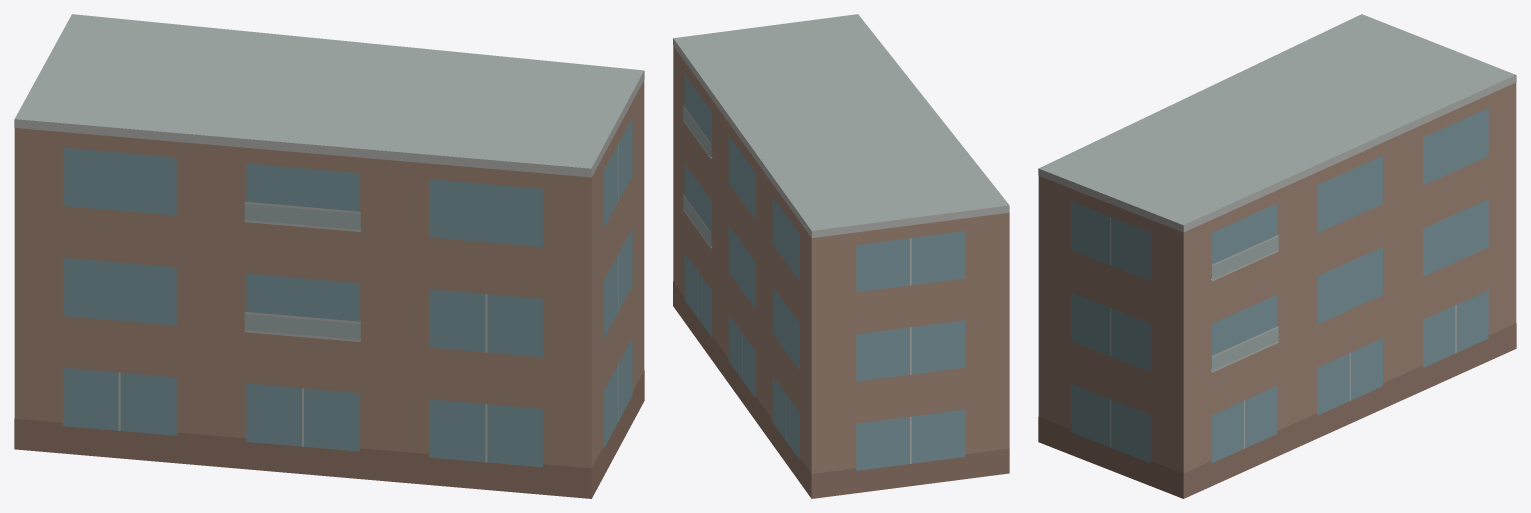
Rendered from survey-upis-32959740.glb.
3 views of the same model, side by side, from view 1: azimuth 30°, elevation 25°; view 2: azimuth 150°, elevation 25°; view 3: azimuth 270°, elevation 25° (orthographic). The views are drawn at different scales.
Parts seen in each view (by area): view 1: survey-upis-32959740.tmp; view 2: survey-upis-32959740.tmp; view 3: survey-upis-32959740.tmp.
Boxes of the visible parts, x1,y1,x2,y2 form: survey-upis-32959740.tmp: (14,14,644,498); survey-upis-32959740.tmp: (673,14,1009,498); survey-upis-32959740.tmp: (1038,14,1516,498).
Size of the model in its own units: 15.16 by 9.15 by 14.49.
